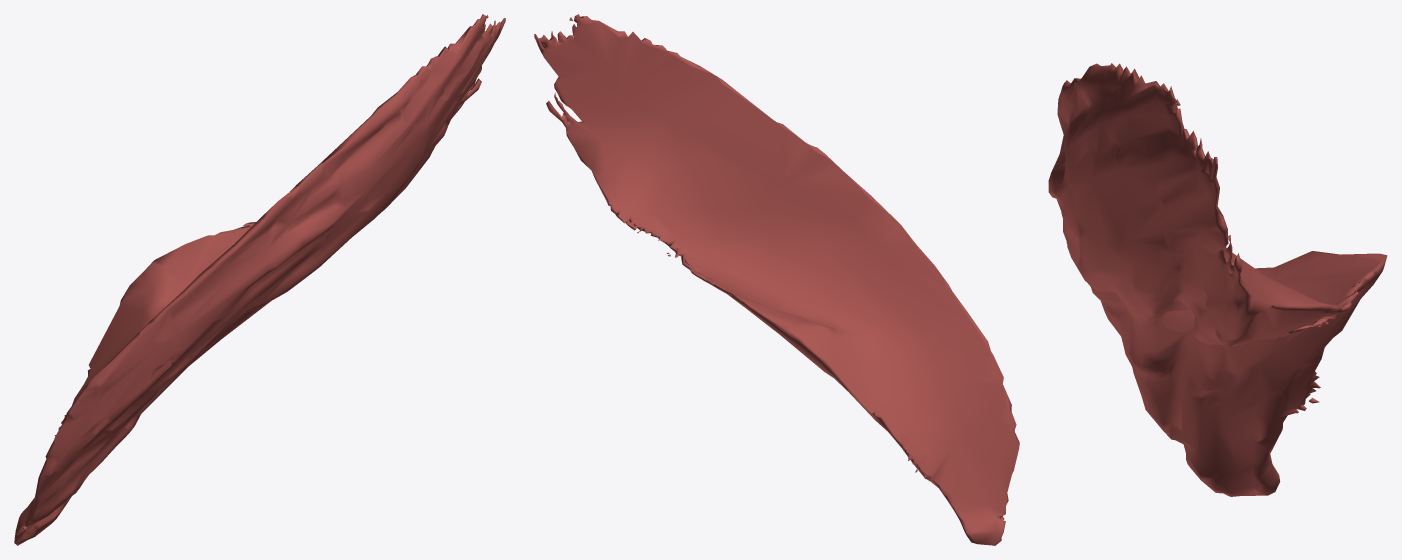
Rendered from FMA46797.glb.
3 renders of one model, left to right at view 1: azimuth 30°, elevation 25°; view 2: azimuth 150°, elevation 25°; view 3: azimuth 270°, elevation 25°, orthographic. The views are drawn at different scales.
Parts seen in each view (by area): view 1: FMA46797; view 2: FMA46797; view 3: FMA46797.
Part boxes in pixels (<box>): FMA46797: <box>14,14,505,545</box>; FMA46797: <box>534,14,1019,545</box>; FMA46797: <box>1048,63,1387,496</box>.
Bounding box in the file's own units: 0.0219 × 0.0185 × 0.00684.
